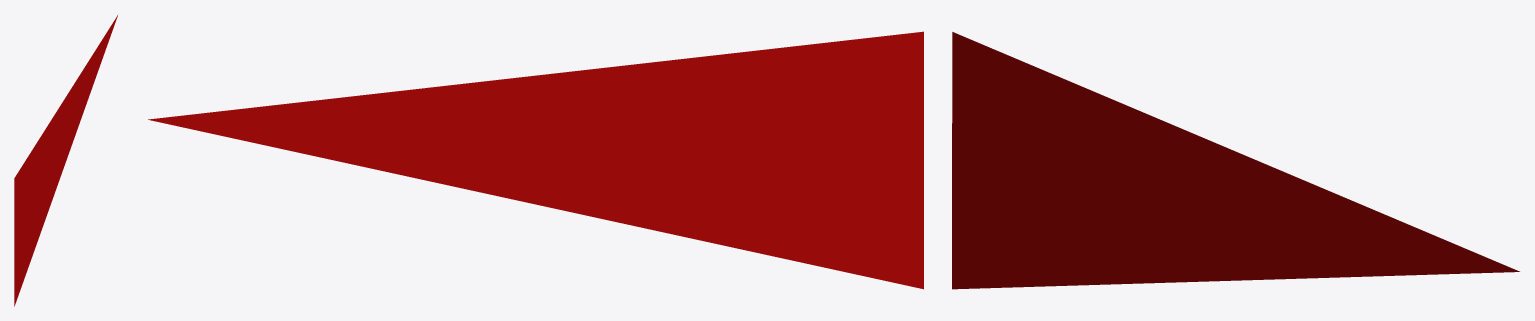
The model's file is Orthogonal_CapLeftWall.glb.
3 views of the same model, side by side, from view 1: azimuth 30°, elevation 25°; view 2: azimuth 150°, elevation 25°; view 3: azimuth 270°, elevation 25° (orthographic). The views are drawn at different scales.
Parts seen in each view (by area): view 1: Orthogonal_CapLeftWall; view 2: Orthogonal_CapLeftWall; view 3: Orthogonal_CapLeftWall.
Boxes of the visible parts, x1,y1,x2,y2 form: Orthogonal_CapLeftWall: [14, 15, 117, 306]; Orthogonal_CapLeftWall: [148, 31, 923, 289]; Orthogonal_CapLeftWall: [952, 32, 1519, 289].
Size of the model in its own units: 0.1 by 0.05 by 0.1.
